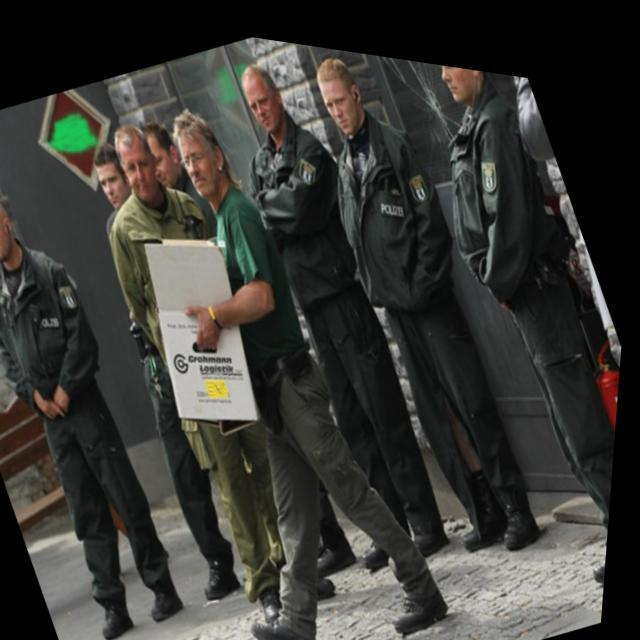Nonhelmet: (300, 50, 377, 151), (162, 100, 230, 212), (234, 53, 298, 151)
